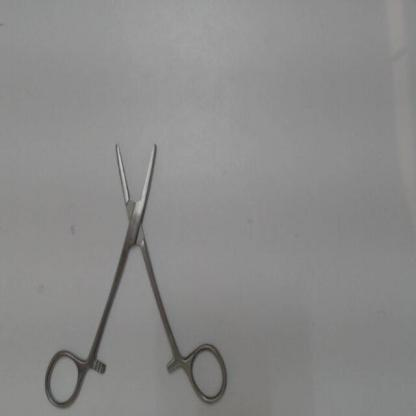Mayo Needle Holder: (38, 130, 232, 413)
